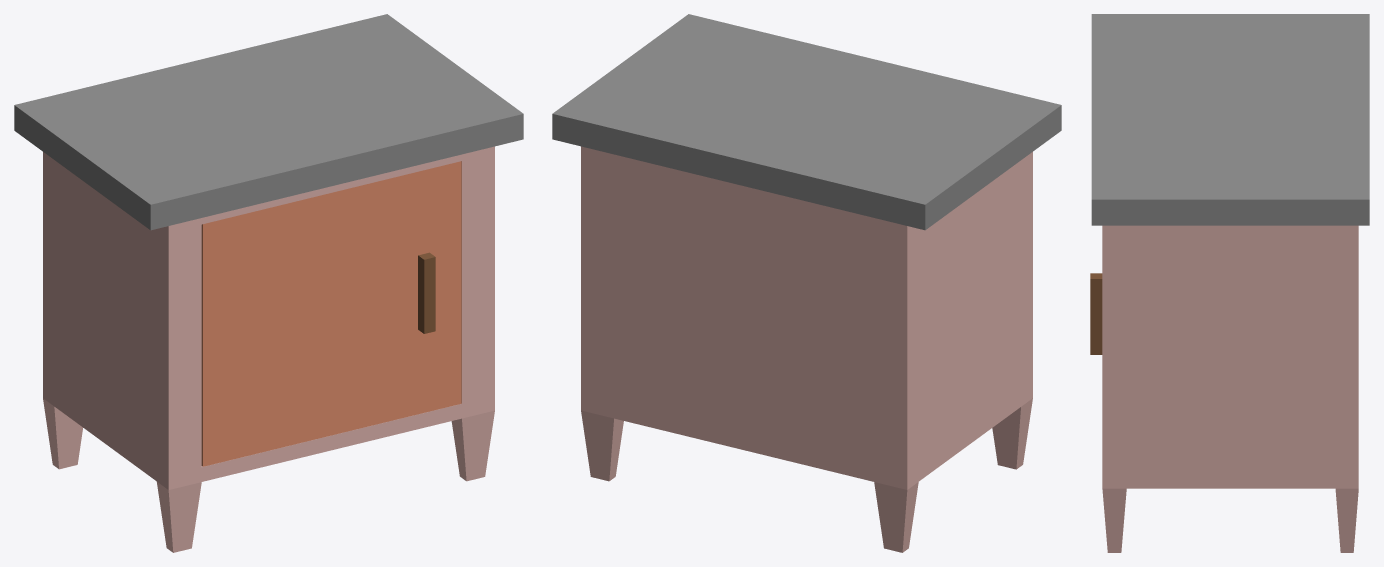
The model's file is Mesa baja pieza Carlitos.fbx.
3 views of the same model, side by side, from view 1: azimuth 30°, elevation 25°; view 2: azimuth 150°, elevation 25°; view 3: azimuth 270°, elevation 25° (orthographic).
Parts seen in each view (by area): view 1: Mesa de luz; view 2: Mesa de luz; view 3: Mesa de luz.
Boxes of the visible parts, x1,y1,x2,y2 form: Mesa de luz: (14, 14, 523, 552); Mesa de luz: (552, 14, 1061, 552); Mesa de luz: (1090, 14, 1369, 552).
Size of the model in its own units: 84.53 by 78.25 by 53.75.
